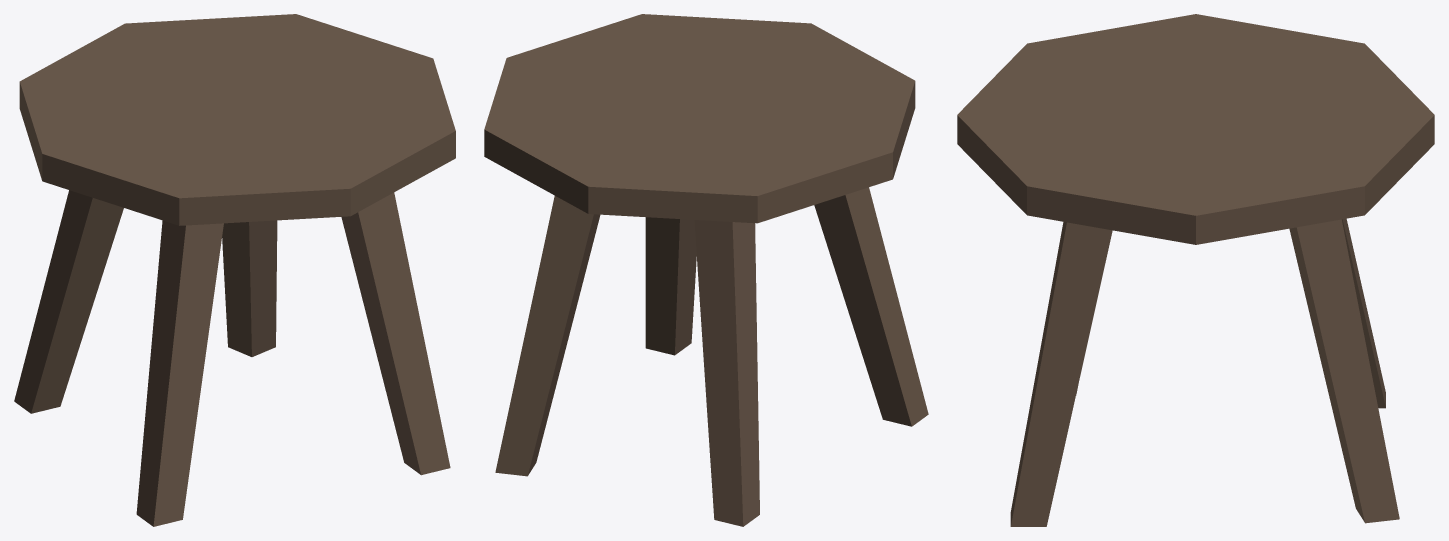
Rendered from Stool_1.fbx.
3 views of the same model, side by side, from view 1: azimuth 30°, elevation 25°; view 2: azimuth 150°, elevation 25°; view 3: azimuth 270°, elevation 25° (orthographic). The views are drawn at different scales.
Parts seen in each view (by area): view 1: Stool_1; view 2: Stool_1; view 3: Stool_1.
Part boxes in pixels (x1,y1,x2,y2): Stool_1: (14, 14, 455, 526); Stool_1: (484, 14, 928, 526); Stool_1: (957, 14, 1434, 526).
Bounding box in the file's own units: 69.74 × 69.74 × 55.97.
